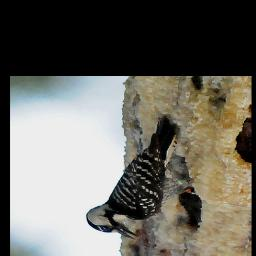Woodpecker: (83, 115, 194, 240)
